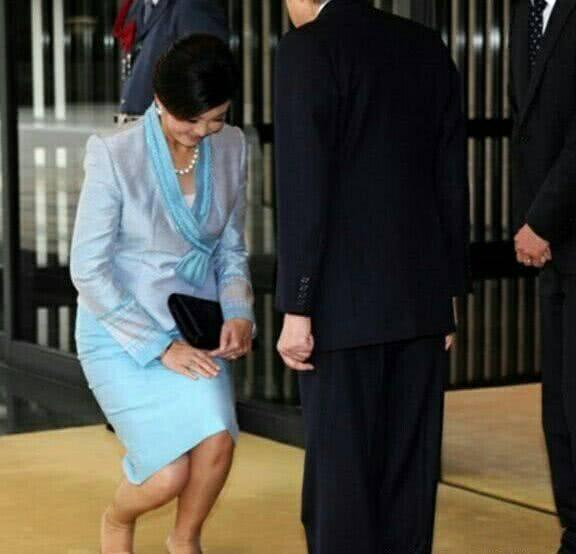bending: (61, 30, 259, 554)
up: (269, 5, 470, 554)
